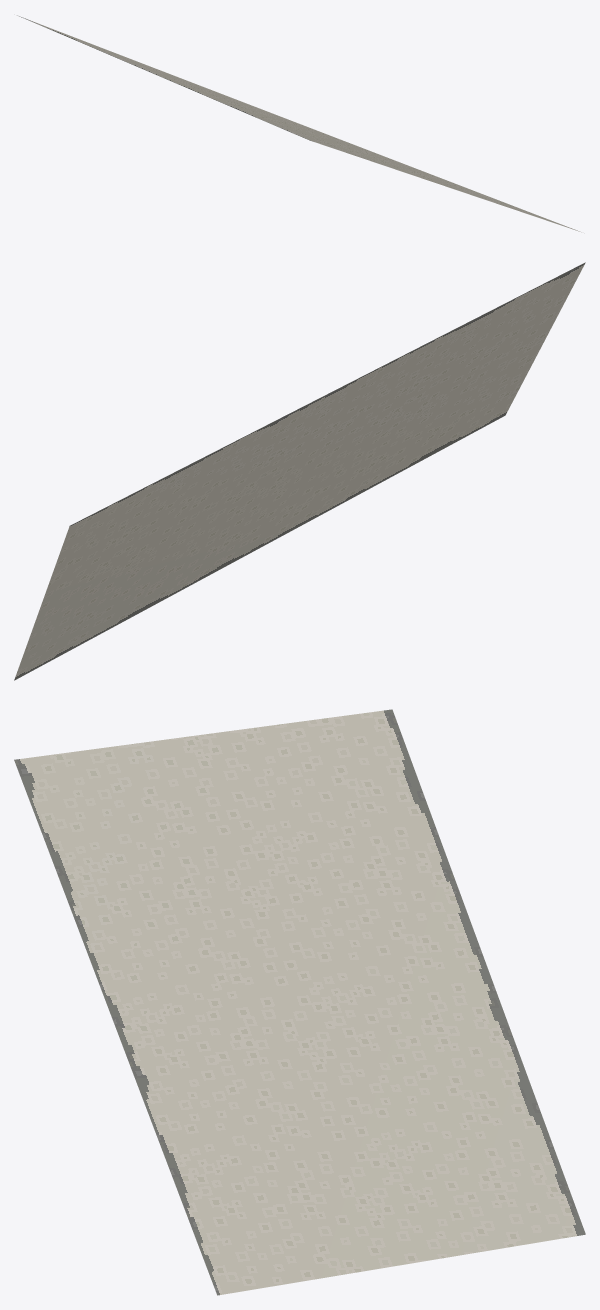
The model's file is kd_stage_13612f_5_40_bounded.glb.
3 views of the same model, one above another, from view 1: azimuth 30°, elevation 25°; view 2: azimuth 150°, elevation 25°; view 3: azimuth 270°, elevation 25° (orthographic). The views are drawn at different scales.
Visible parts, largest first — view 1: kd_stage_13612f_5_40_bounded; view 2: kd_stage_13612f_5_40_bounded; view 3: kd_stage_13612f_5_40_bounded.
Part boxes in pixels (x1=…): kd_stage_13612f_5_40_bounded: x1=17, y1=15, x2=581, y2=232; kd_stage_13612f_5_40_bounded: x1=14, y1=262, x2=585, y2=680; kd_stage_13612f_5_40_bounded: x1=14, y1=709, x2=585, y2=1295.
Size of the model in its own units: 0.2739 by 0.15 by 0.2456.
Materials: 1 (1 with a texture image).
